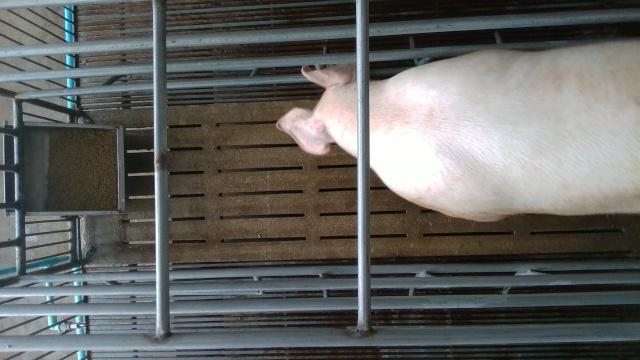sow-stand: (273, 39, 640, 222)
